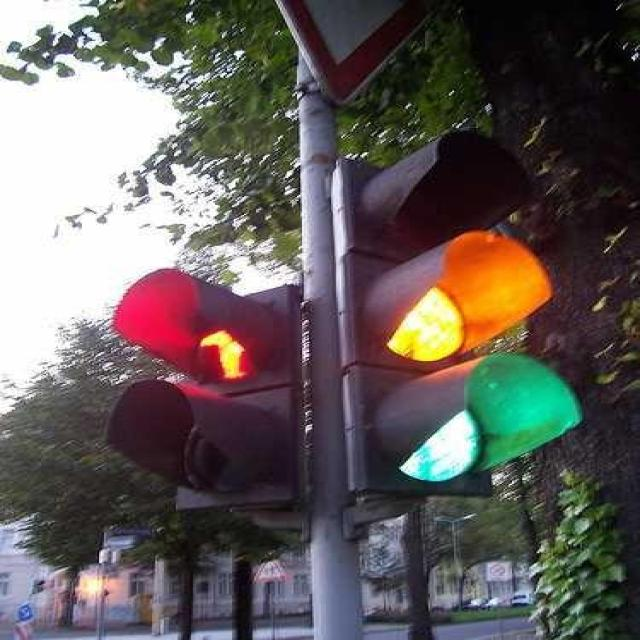Traffic Light -Green-: (352, 361, 599, 506)
Traffic Light -Yellow-: (353, 228, 594, 363)
